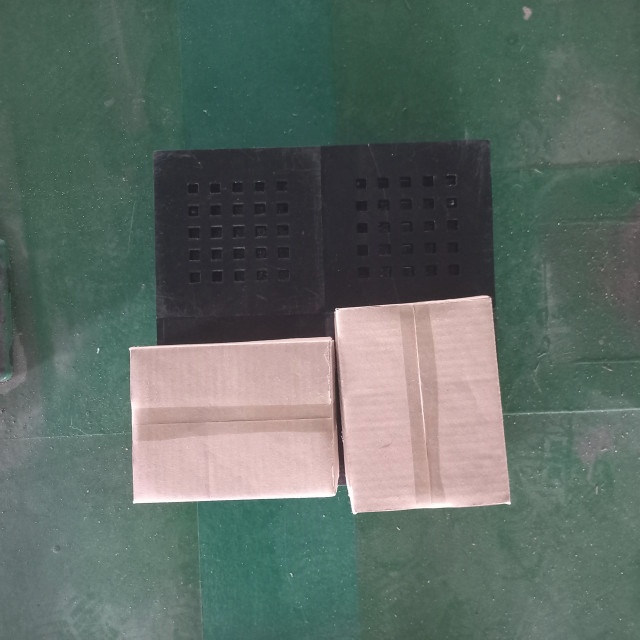box: (334, 292, 511, 521), (126, 336, 340, 505)
